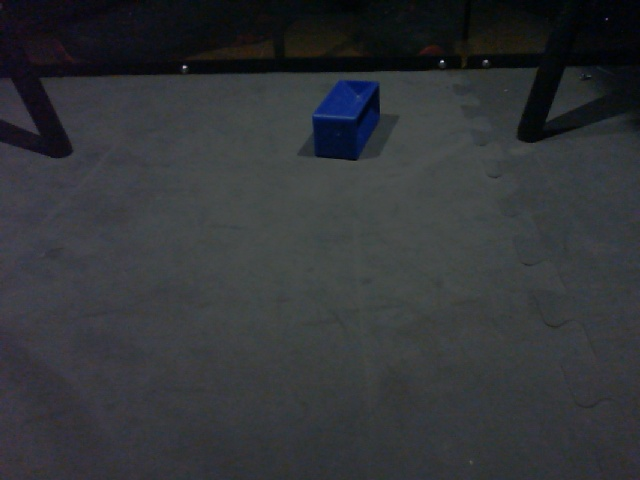BlueSample: (312, 78, 384, 160)
